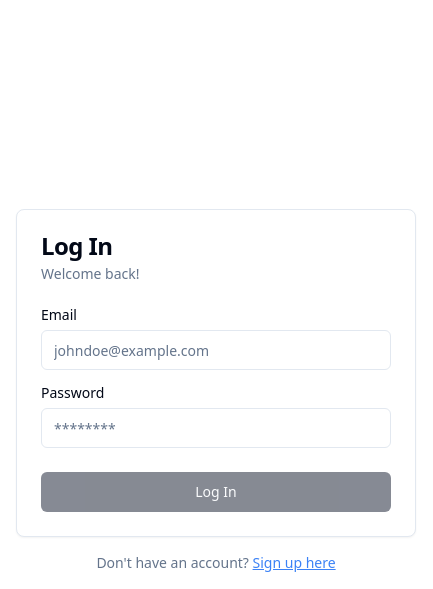
Test: Login Page › should show an error message for invalid credentials
This screenshot has width=433, height=589.
Type "wrong@email.com" into the field named "email". click: (216, 350)
box: [41,330,391,370]
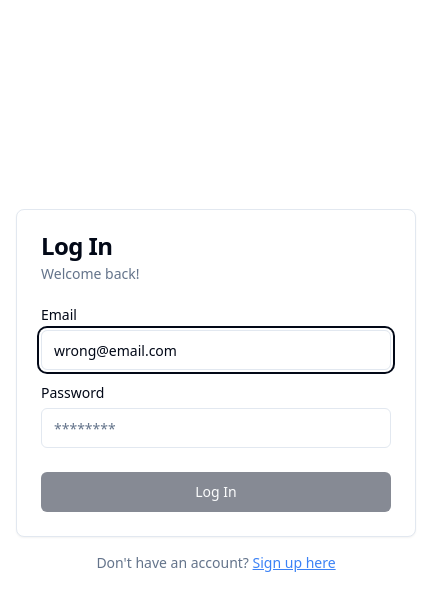
Type "wrongpassword" into the password field named "password". click: (216, 428)
box: [41,408,391,448]
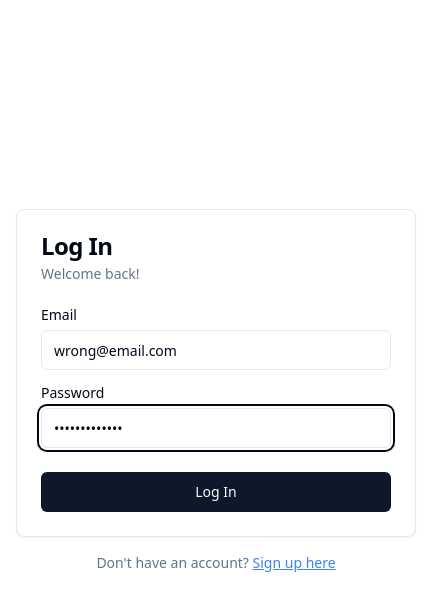
Click the submit button. click: (216, 492)
box: [41,472,391,512]
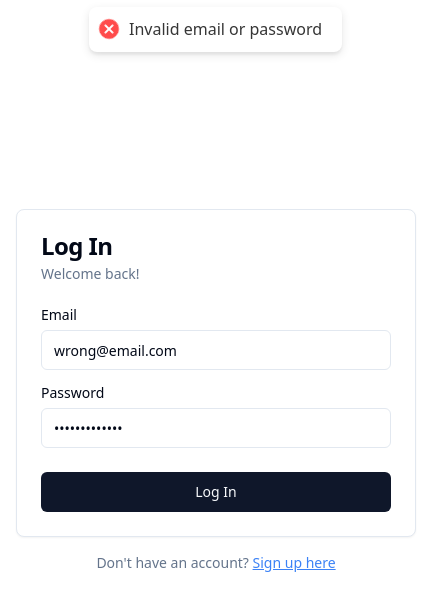
Check: the text "Invalid email or password" is shown, box [130,19,322,40]
